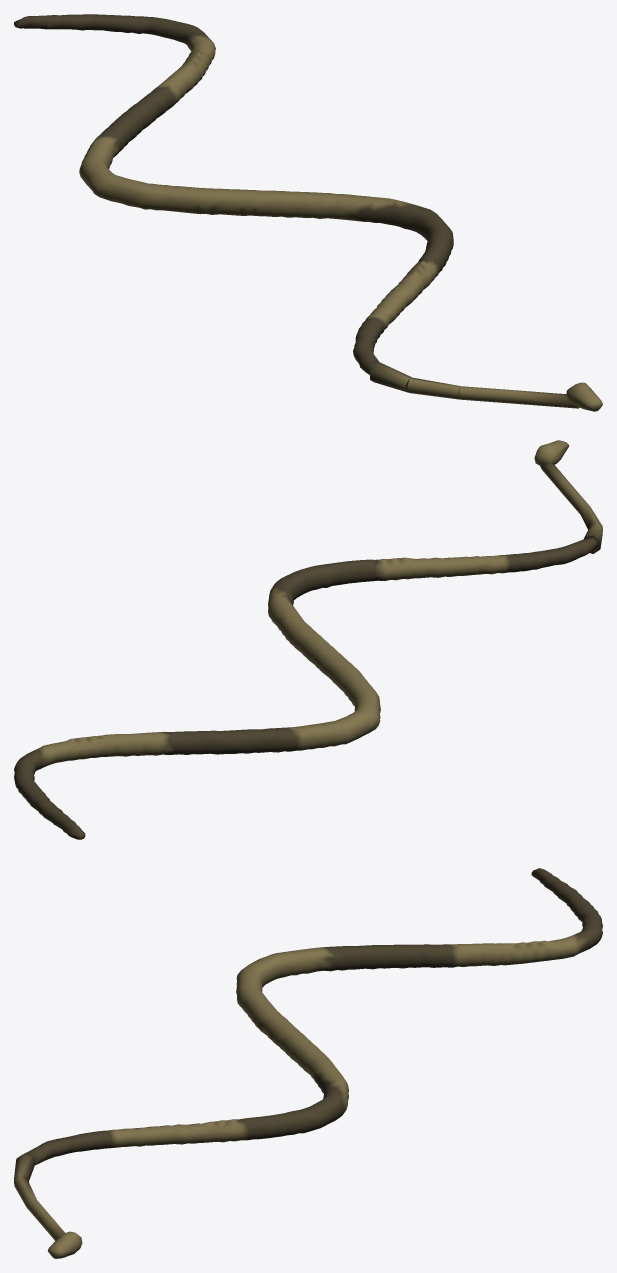
The model's file is schlange.glb.
3 views of the same model, one above another, from view 1: azimuth 30°, elevation 25°; view 2: azimuth 150°, elevation 25°; view 3: azimuth 330°, elevation 25° (orthographic). The views are drawn at different scales.
Parts seen in each view (by area): view 1: lack; view 2: lack; view 3: lack.
Part boxes in pixels (x1=…): lack: x1=14, y1=14, x2=602, y2=411; lack: x1=14, y1=440, x2=602, y2=839; lack: x1=14, y1=868, x2=602, y2=1258.
Bounding box in the file's own units: 0.3996 × 0.0412 × 1.56.
